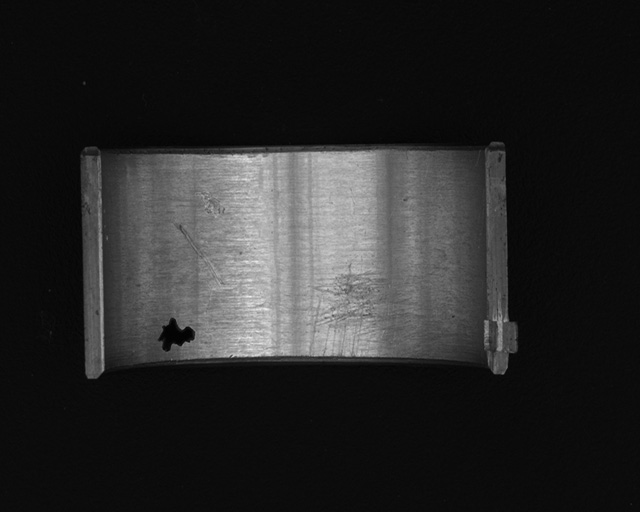blot: (156, 316, 196, 352)
bruise: (199, 190, 226, 218)
nick: (176, 224, 224, 286)
scratch: (307, 262, 447, 359)
